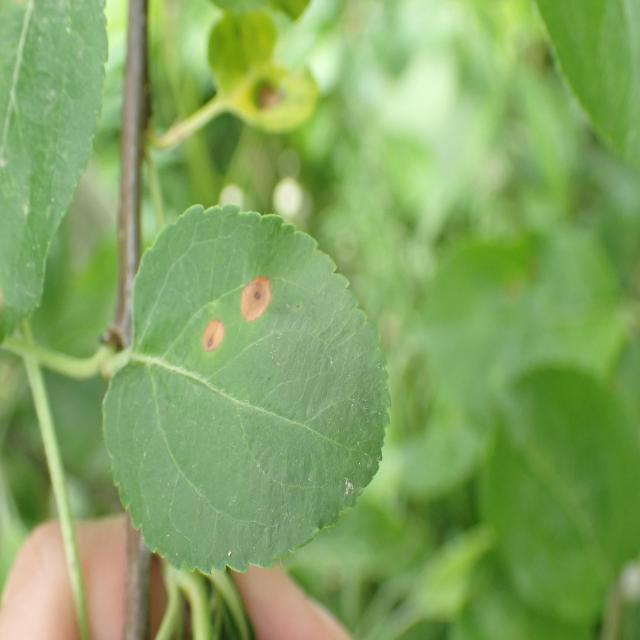frog-eye-leaf-spot: (100, 202, 392, 576)
